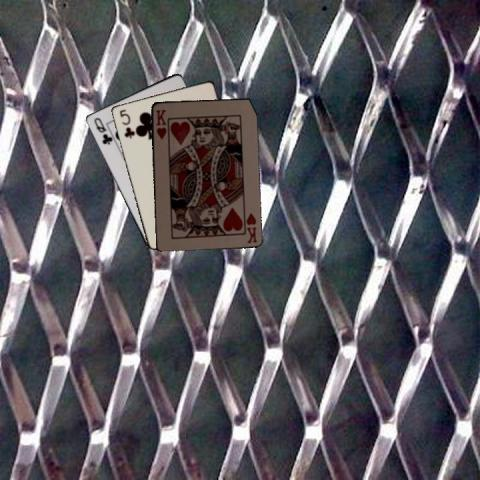5c: (116, 106, 135, 139)
Kh: (243, 209, 258, 244), (153, 106, 168, 140)
Qc: (91, 115, 113, 146)
